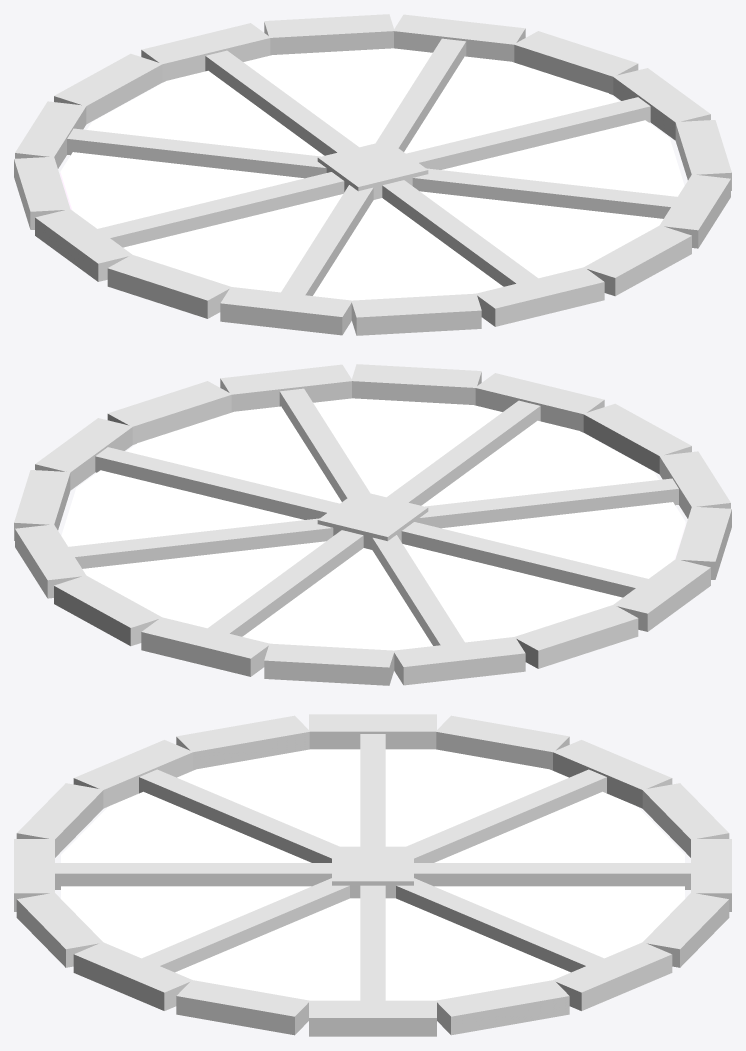
The model's file is sw_grate.glb.
The picture shows the model from 3 angles, top to bottom: view 1: azimuth 30°, elevation 25°; view 2: azimuth 150°, elevation 25°; view 3: azimuth 270°, elevation 25°; orthographic projection.
Parts seen in each view (by area): view 1: sw_grate; view 2: sw_grate; view 3: sw_grate.
Part boxes in pixels (x1,y1,x2,y2): sw_grate: [14, 14, 731, 335]; sw_grate: [14, 364, 731, 685]; sw_grate: [14, 714, 731, 1036].
Size of the model in its own units: 1.4 by 0.045 by 1.4.
